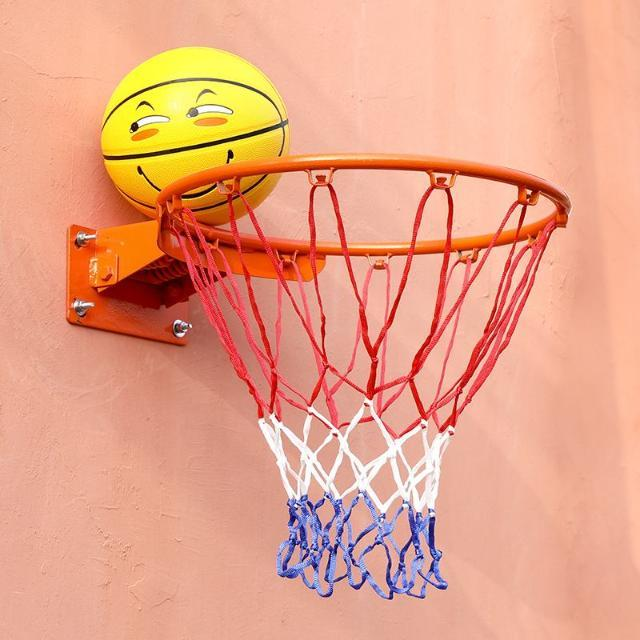basketball: (100, 45, 292, 232)
rim: (159, 154, 571, 598)
